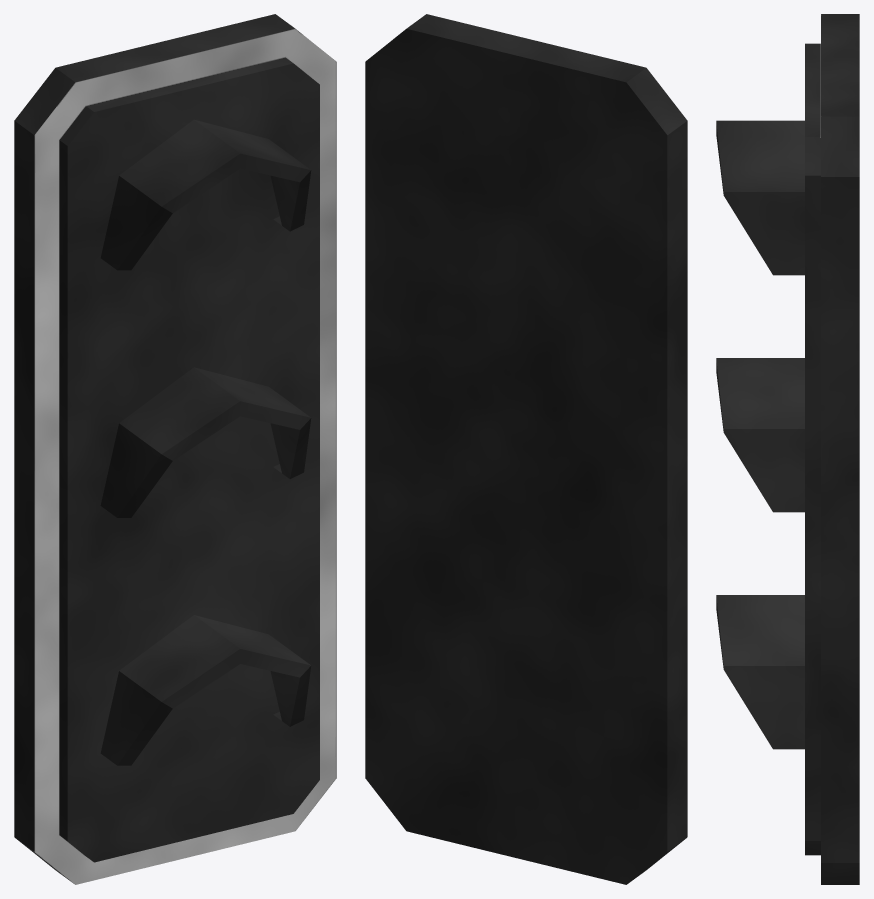
Rendered from traffic_light.fbx.
The picture shows the model from 3 angles, left to right: view 1: azimuth 30°, elevation 25°; view 2: azimuth 150°, elevation 25°; view 3: azimuth 270°, elevation 25°; orthographic projection. The views are drawn at different scales.
Parts seen in each view (by area): view 1: traffic_light; view 2: traffic_light; view 3: traffic_light.
Part boxes in pixels (x1,y1,x2,y2): traffic_light: [14, 14, 336, 884]; traffic_light: [365, 14, 687, 884]; traffic_light: [716, 14, 859, 884].
Size of the model in its own units: 260 by 660 by 112.
